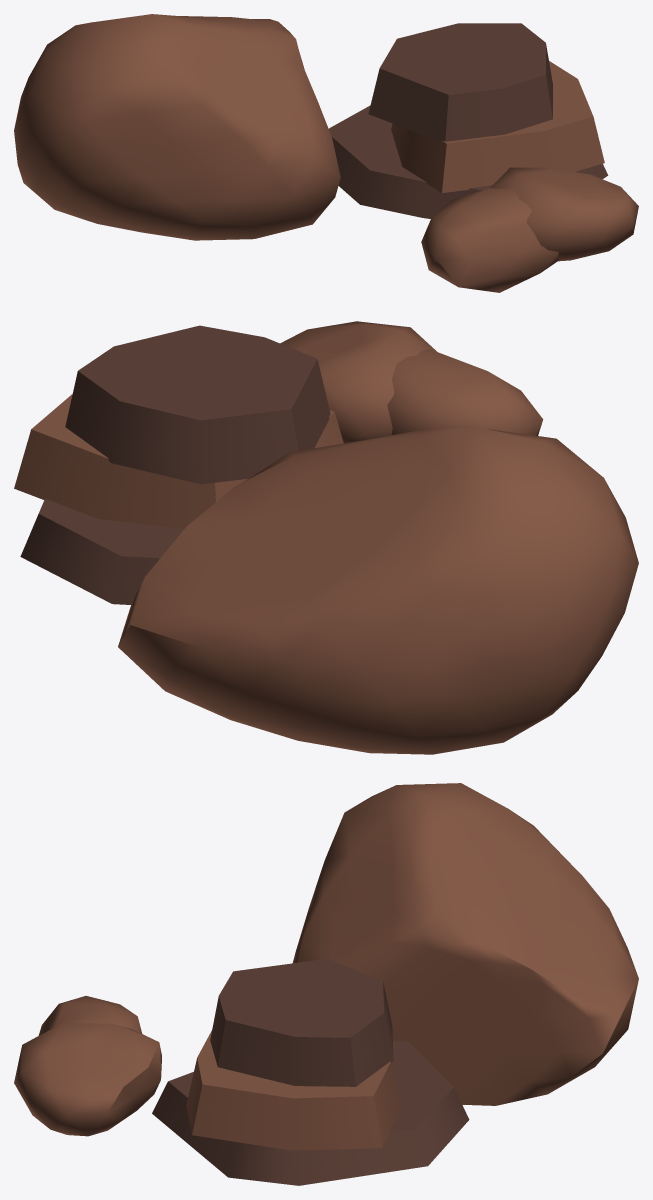
The model's file is rock.glb.
The picture shows the model from 3 angles, top to bottom: view 1: azimuth 30°, elevation 25°; view 2: azimuth 150°, elevation 25°; view 3: azimuth 270°, elevation 25°; orthographic projection. The views are drawn at different scales.
Parts seen in each view (by area): view 1: rock; view 2: rock; view 3: rock.
Boxes of the visible parts, x1,y1,x2,y2 form: rock: (14, 14, 638, 292); rock: (14, 321, 638, 754); rock: (14, 783, 638, 1185).
Bounding box in the file's own units: 1.69 × 0.7497 × 1.73.
